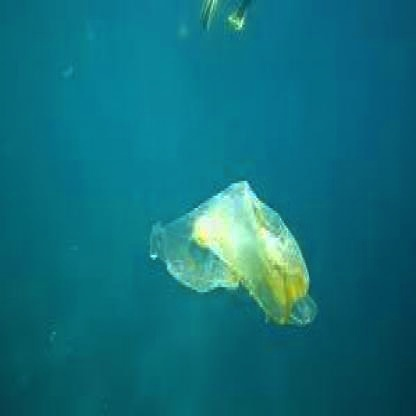pbag: (148, 181, 322, 334)
